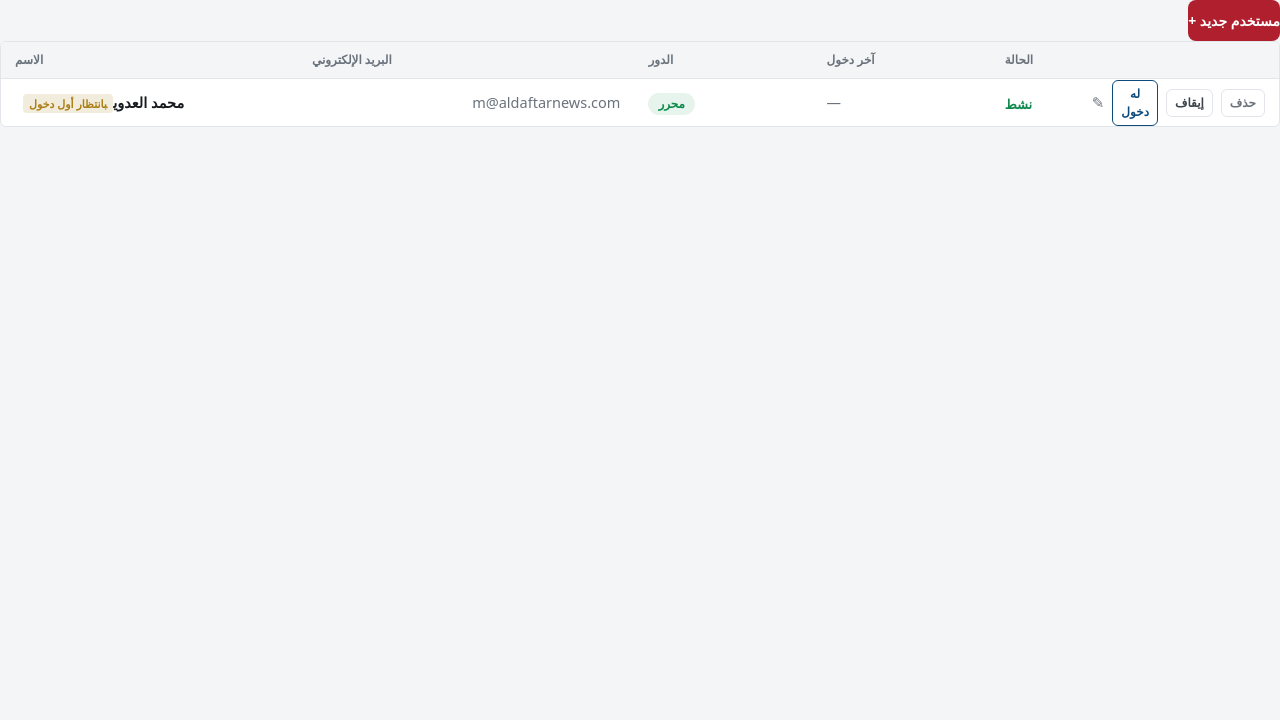
Test: UsersManager › creates a user and hands over the credentials once
Click the button "+ مستخدم جديد": (1234,20) 1188,0 -> 1279,41
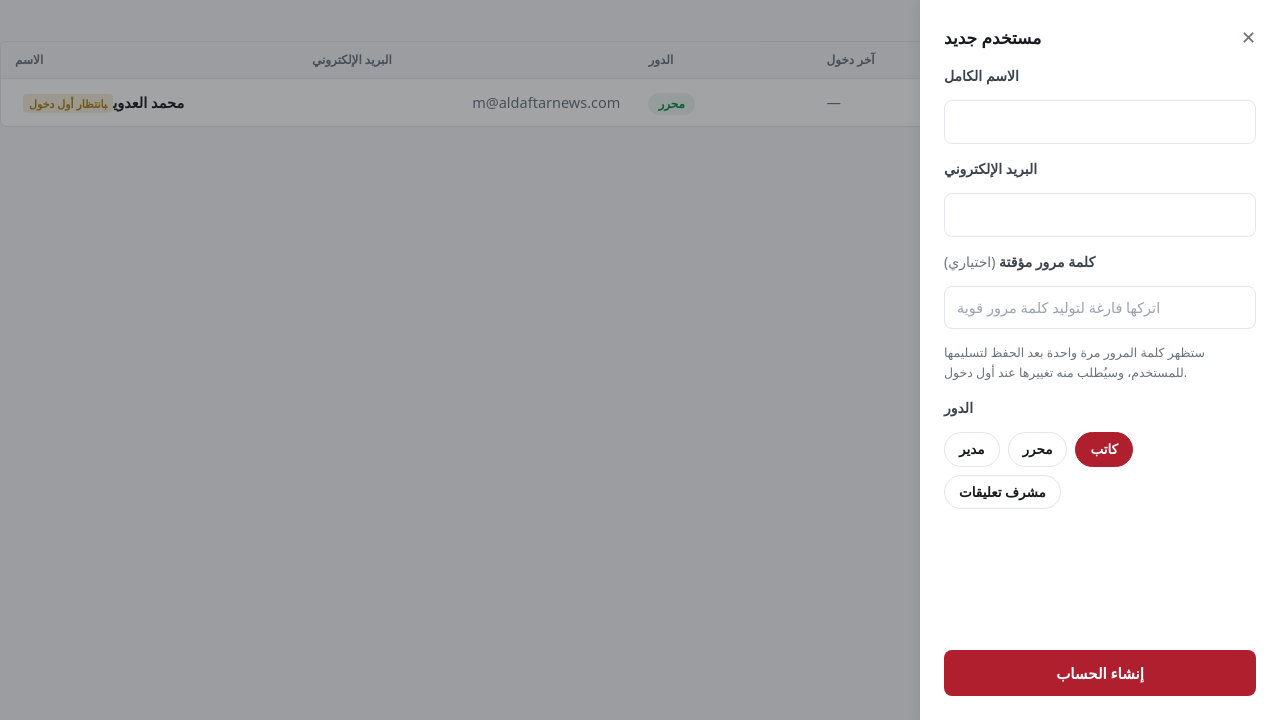
In the field labelled "الاسم الكامل": (1100,122) 944,100 -> 1256,144, type "مستخدم جديد"
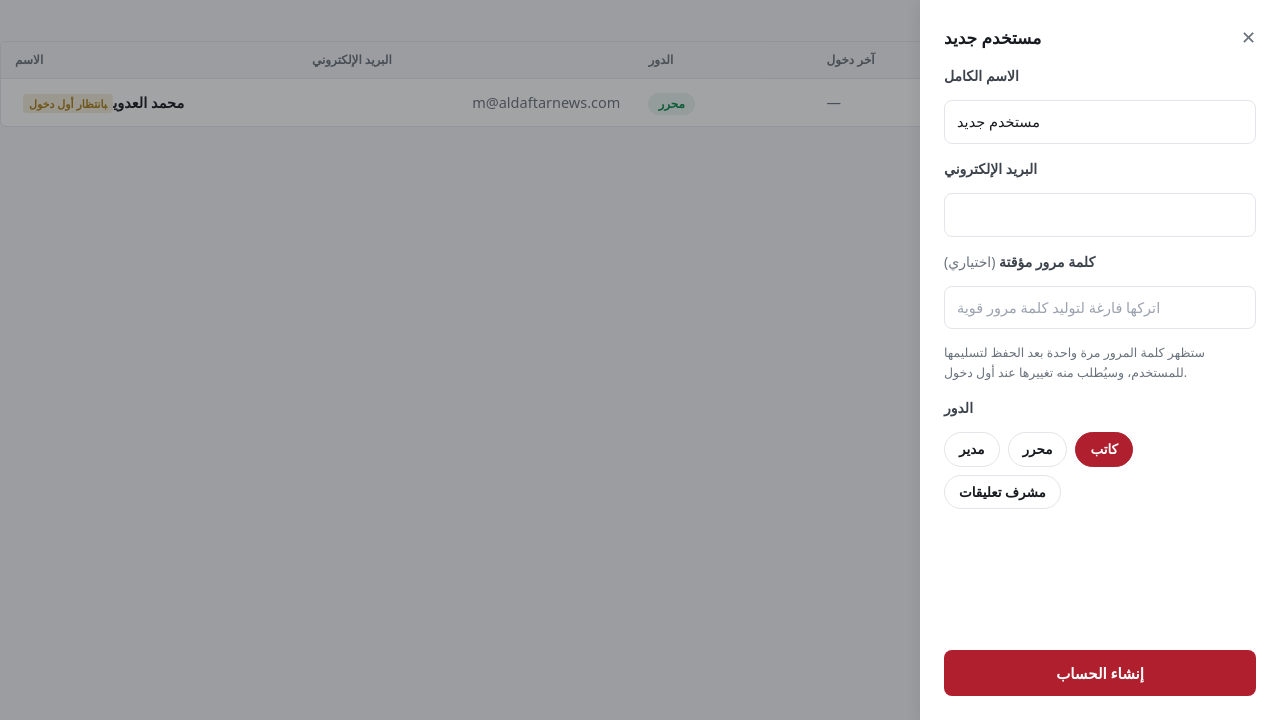
In the field labelled "البريد الإلكتروني": (1100,215) 944,193 -> 1256,237, type "new@aldaftarnews.com"
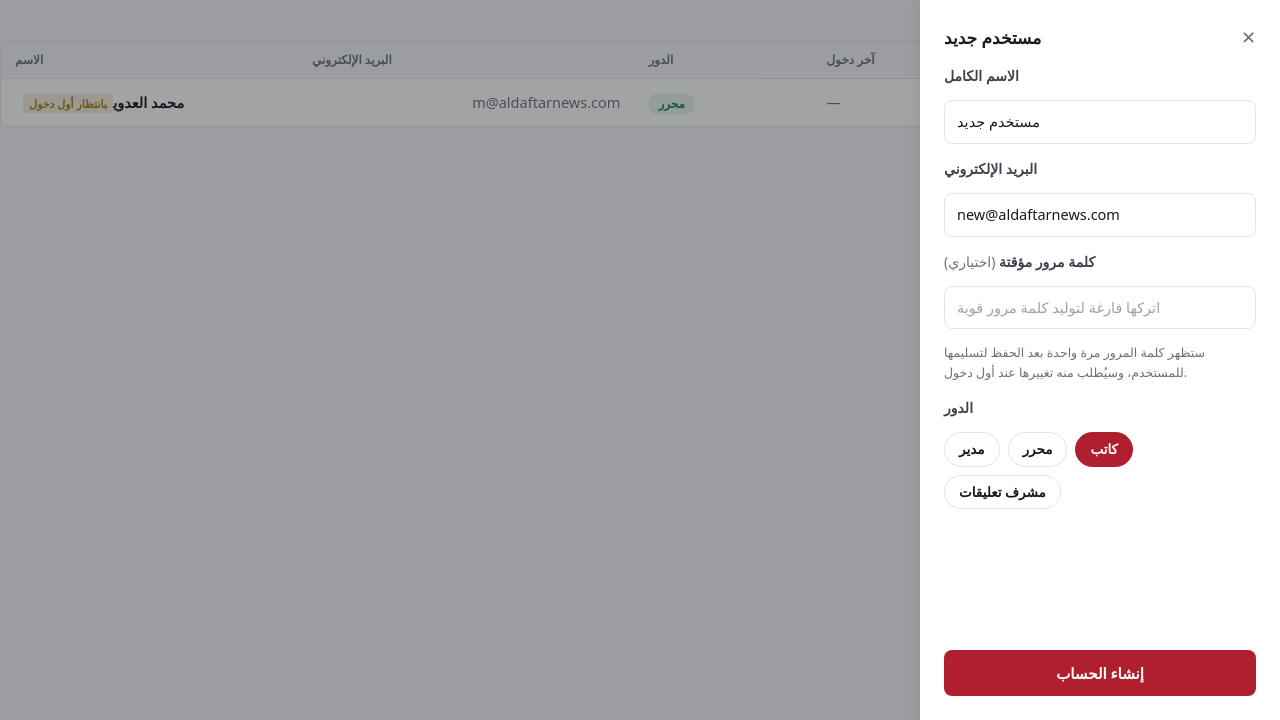
Click the button "إنشاء الحساب": (1100,673) 944,650 -> 1256,696
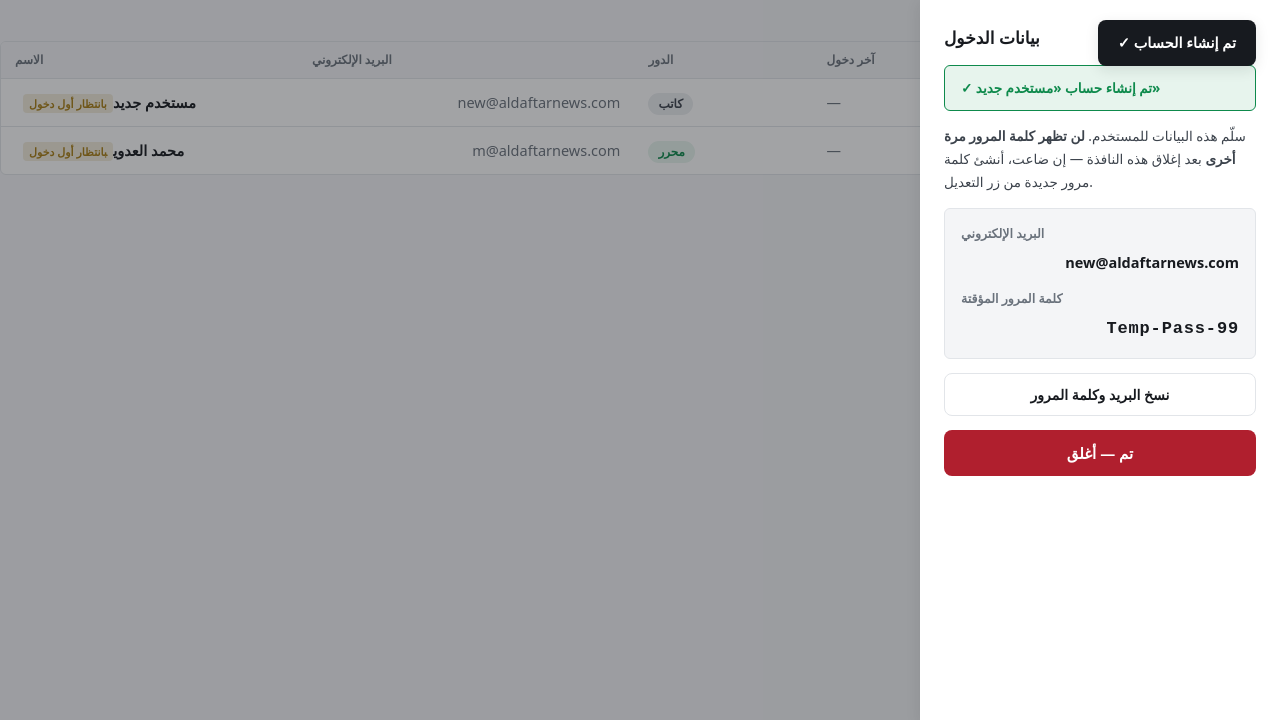
Expected: the text "✓ تم إنشاء حساب «مستخدم جديد»" is shown, 944,65 -> 1256,111
Expected: the text "Temp-Pass-99" is shown, 1106,319 -> 1239,338
Expected: the text "new@aldaftarnews.com" next to "كاتب" is shown, 458,92 -> 620,112
